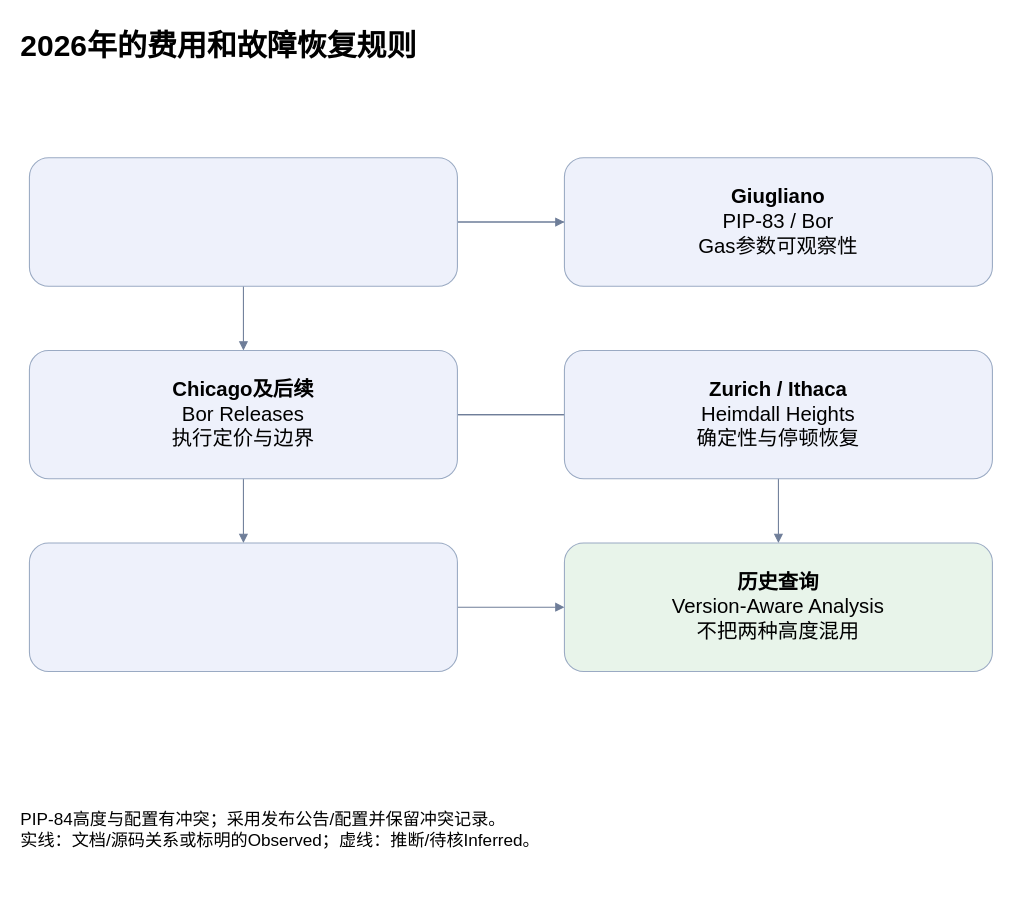
This 1021x908 diagram has some shape labels left out. The shapes that lost their labels are listed below. From the top down, each one's centre as x and y in pixels, then its label:
At (242,221): "Lisovo PIP-79 / Bor 受边界约束的Gas参数".
At (242,606): "Kyoto / Lugano Heimdall Releases 共识安全加固".
